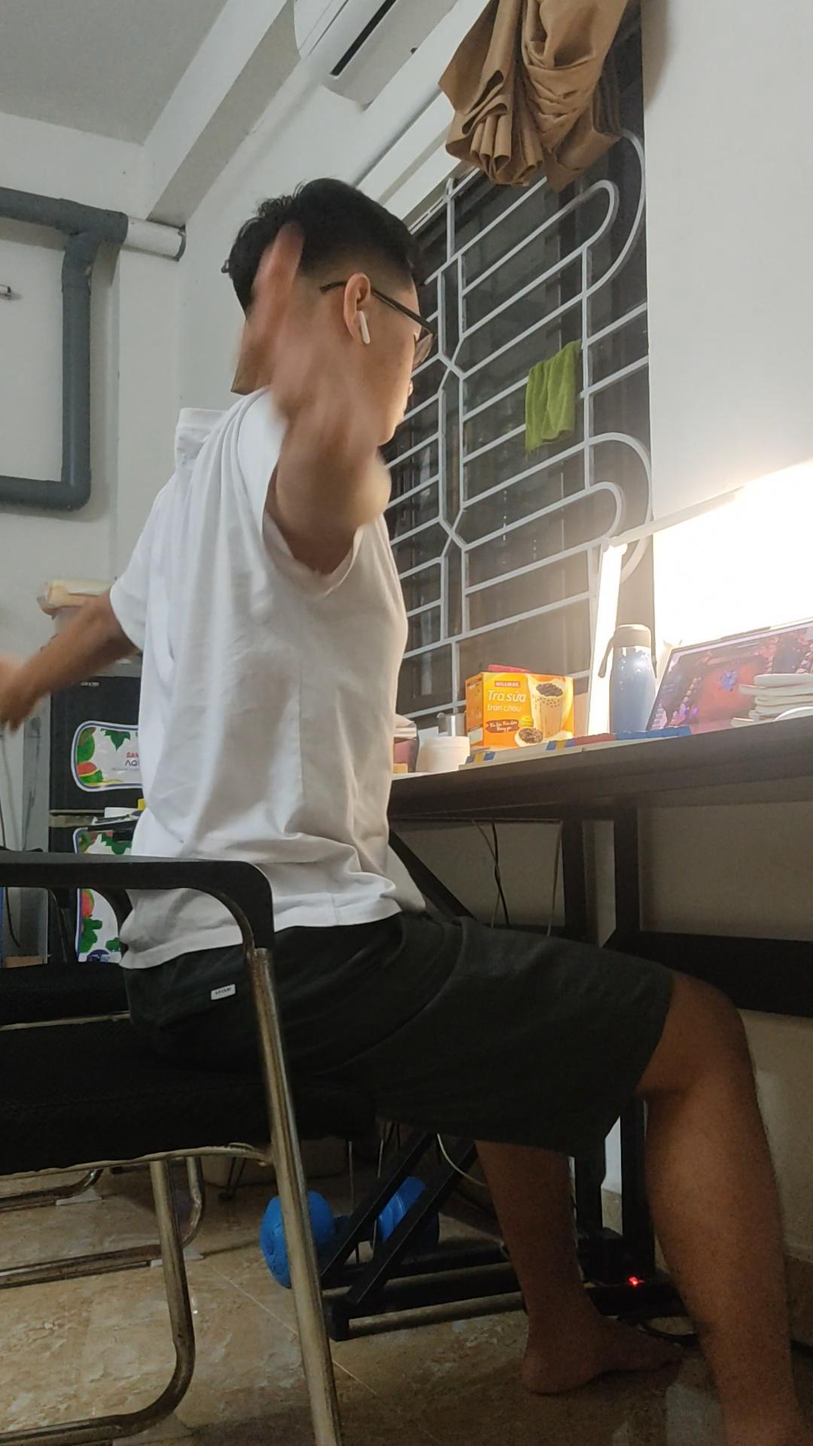GoodPosture: (106, 181, 812, 1445)
